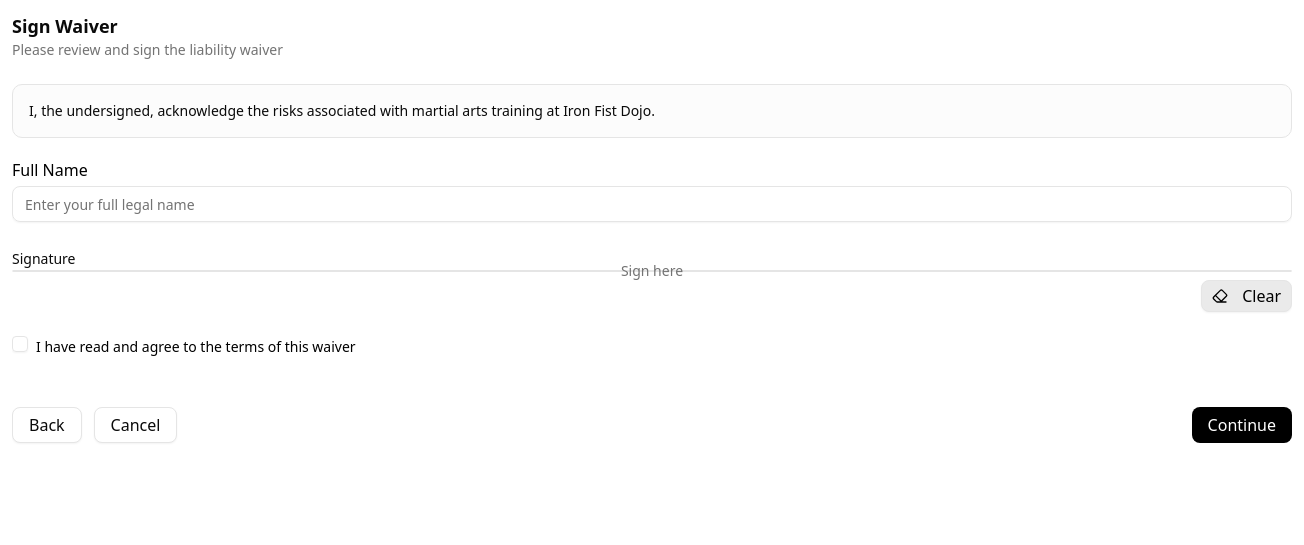
Test: MemberWaiverStep › Validation › should show name error when submitting without signer name
The width and height of the screenshot is (1304, 545).
Expected: the heading "Sign Waiver" is shown, [12,14,118,38]
Note: Click Continue without entering name
What coordinates should you click on to do the following:
click the button "Continue"
I would click on:
 (1242, 425)
Its box is [1192,407,1292,443].
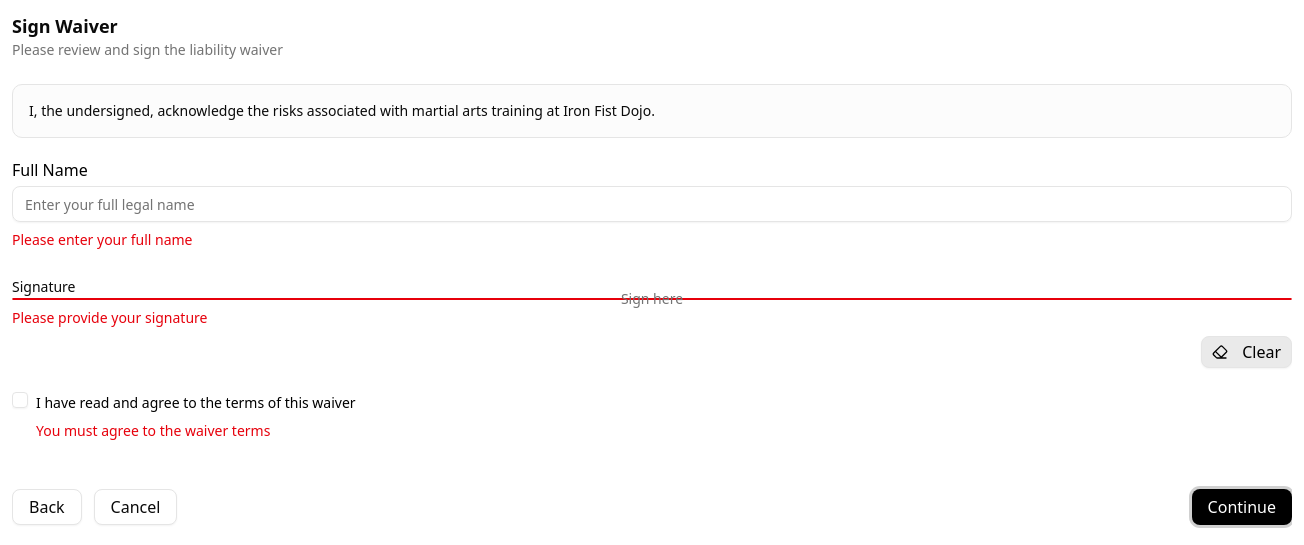
Expected: the text "Please enter your full name" is shown, [12,230,192,249]
